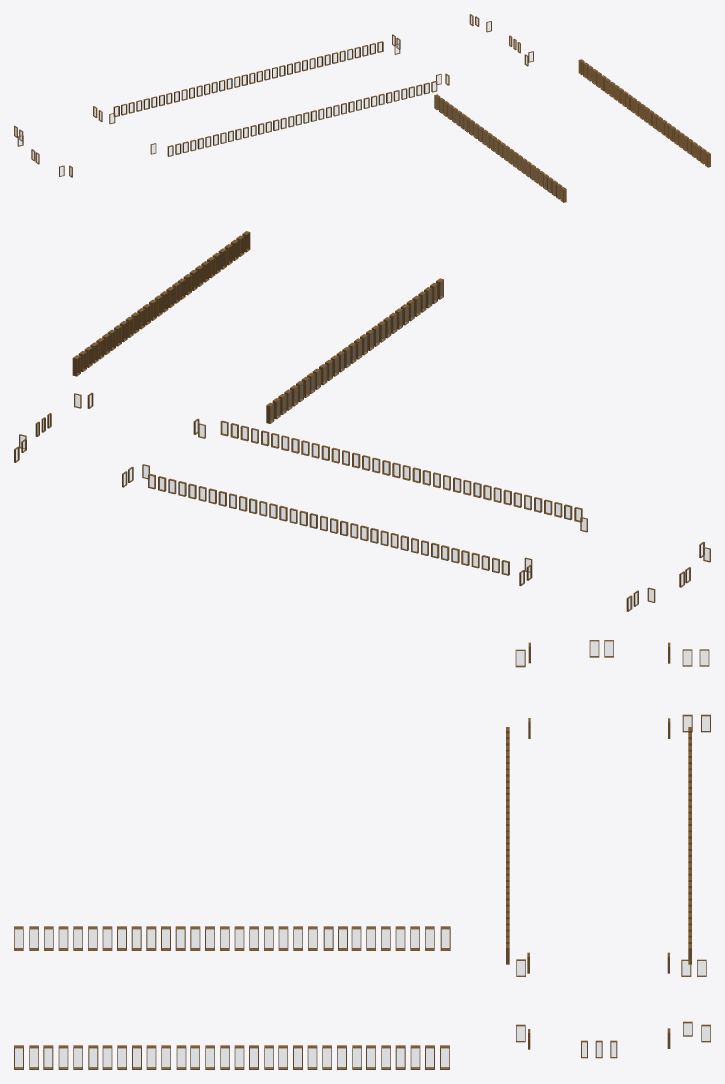
File: insaat_revit.ifc.ifc.ifc.ifc_98.0 Derslikler_IfcWindow.dae
The picture shows the model from 3 angles, top to bottom: view 1: azimuth 30°, elevation 25°; view 2: azimuth 150°, elevation 25°; view 3: azimuth 270°, elevation 25°; orthographic projection. The views are drawn at different scales.
Size of the model in its own units: 79.96 by 57 by 2.59.
